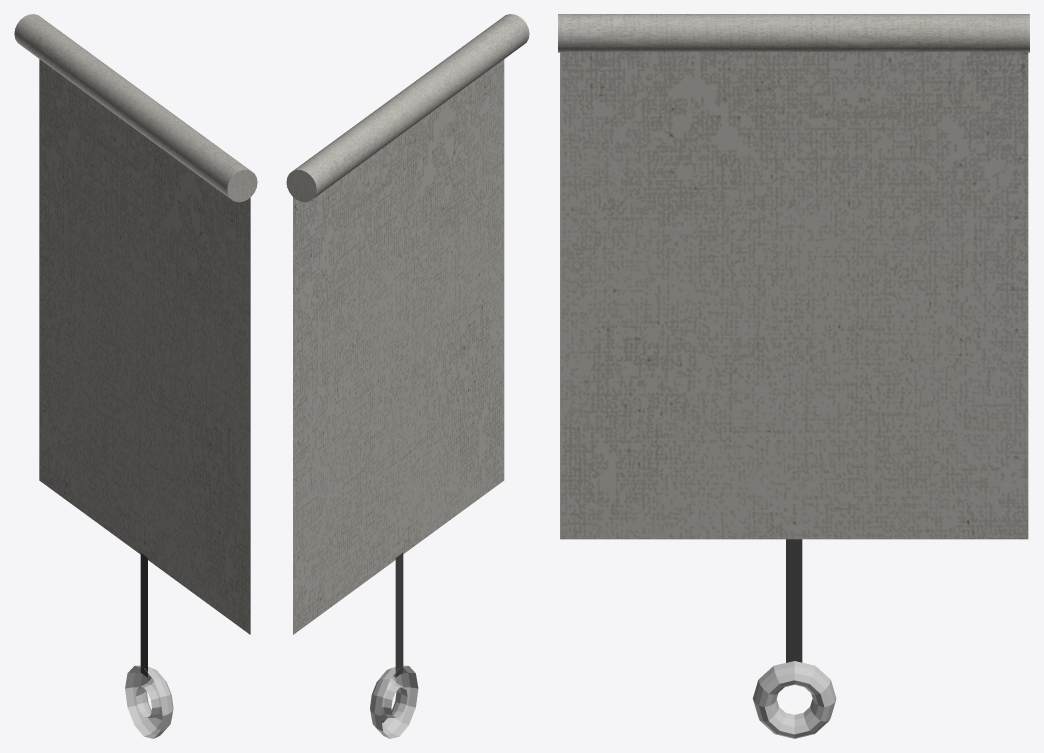
File: Curtain_Pulldown.fbx
The picture shows the model from 3 angles, left to right: view 1: azimuth 30°, elevation 25°; view 2: azimuth 150°, elevation 25°; view 3: azimuth 270°, elevation 25°; orthographic projection. The views are drawn at different scales.
Parts seen in each view (by area): view 1: Curtain8; view 2: Curtain8; view 3: Curtain8.
Boxes of the visible parts, x1,y1,x2,y2 form: Curtain8: (14,14,257,738); Curtain8: (286,14,529,738); Curtain8: (558,14,1029,738).
Bounding box in the file's own units: 0.5269 × 8.24 × 4.92.
